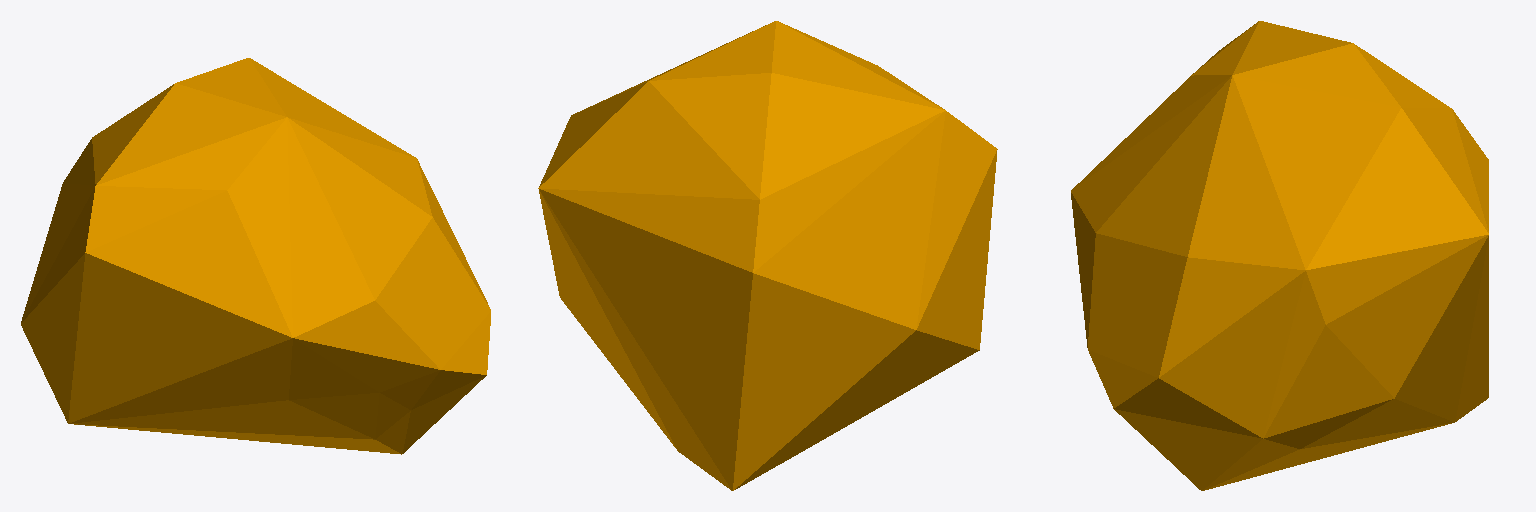
robot.urdf — 55_087:
<?xml version="1.0"?>
<robot name="55_087">
  <link name="link">
    <contact>
      <lateral_friction value="0.6"/>
    </contact>
    <inertial>
      <mass value = "0.6171572092489886"/>
      <inertia ixx="0.0003778349767194794" ixy="-1.279261868198291e-05" ixz="-1.9323726257436684e-05" iyy="0.0004282394082204336" iyz="-5.0652825759756825e-06" izz="0.0004413493070809004" />
    </inertial>
    <visual name="visual">
      <geometry>
        <mesh filename="55_087.obj"/>
      </geometry>
    </visual>
    <collision name="collision">
      <geometry>
        <mesh filename="55_087.obj"/>
      </geometry>
    </collision>
  </link>
</robot>

--- What the picture shows (computed from the rendered views, not written in the file) ---
The picture shows the robot from 3 angles, left to right: view 1: azimuth 30°, elevation 25°; view 2: azimuth 150°, elevation 25°; view 3: azimuth 270°, elevation 25°; orthographic projection.
Model 55_087 with 1 links and 0 joints (none), rooted at link, posed every joint at zero.
Visible links, largest first — view 1: link; view 2: link; view 3: link.
Link boxes in pixels (box(x1,y1,x2,y2)): link: box(21, 58, 490, 454); link: box(538, 21, 997, 490); link: box(1071, 21, 1488, 490).
Size in the robot's own frame: 0.0872 by 0.0797 by 0.0777 metres.
1 mesh visuals loaded from 1 distinct referenced files (1 OBJ).
